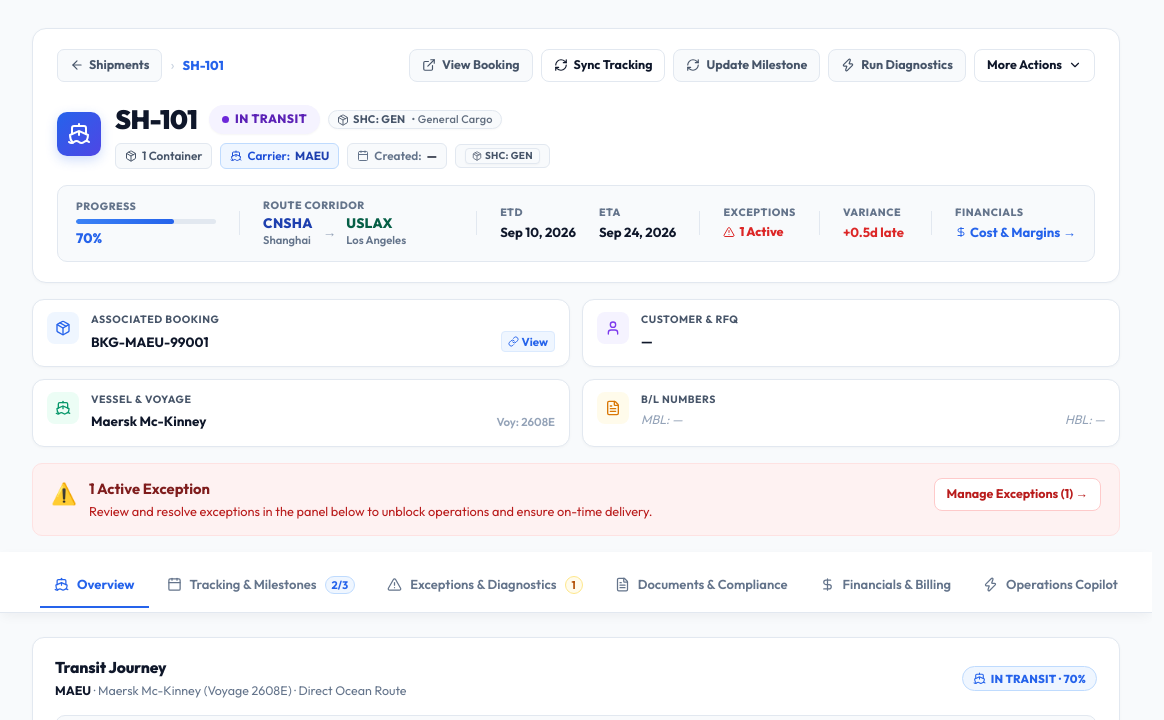
Test: ShipmentDetail Workspace Tabs › switches to Milestones tab when clicked
This screenshot has width=1164, height=720.
Check: the heading "Transit Journey" is shown, box [55,657,166,677]
Click the tab "Tracking & Milestones 2/3".
click(261, 586)  # box [152,564,369,608]
(page scrolled)
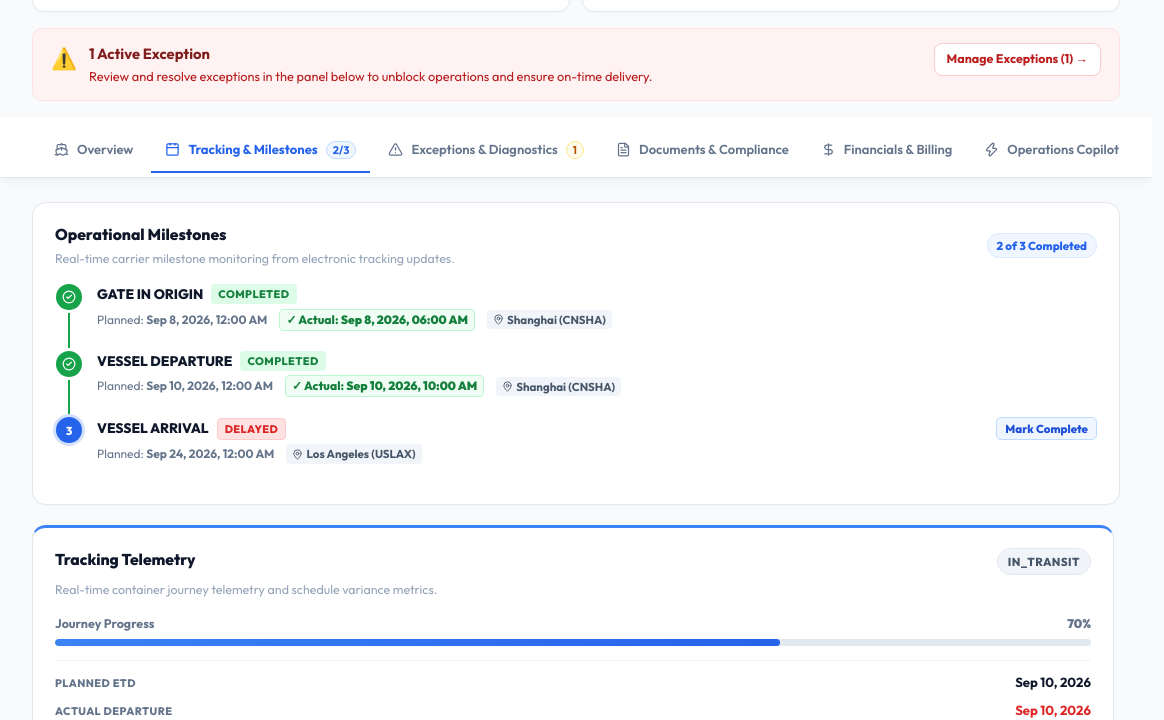
Check: the text "GATE IN ORIGIN" is shown, box [97,284,203,304]
Check: the text "VESSEL DEPARTURE" is shown, box [97,350,232,371]
